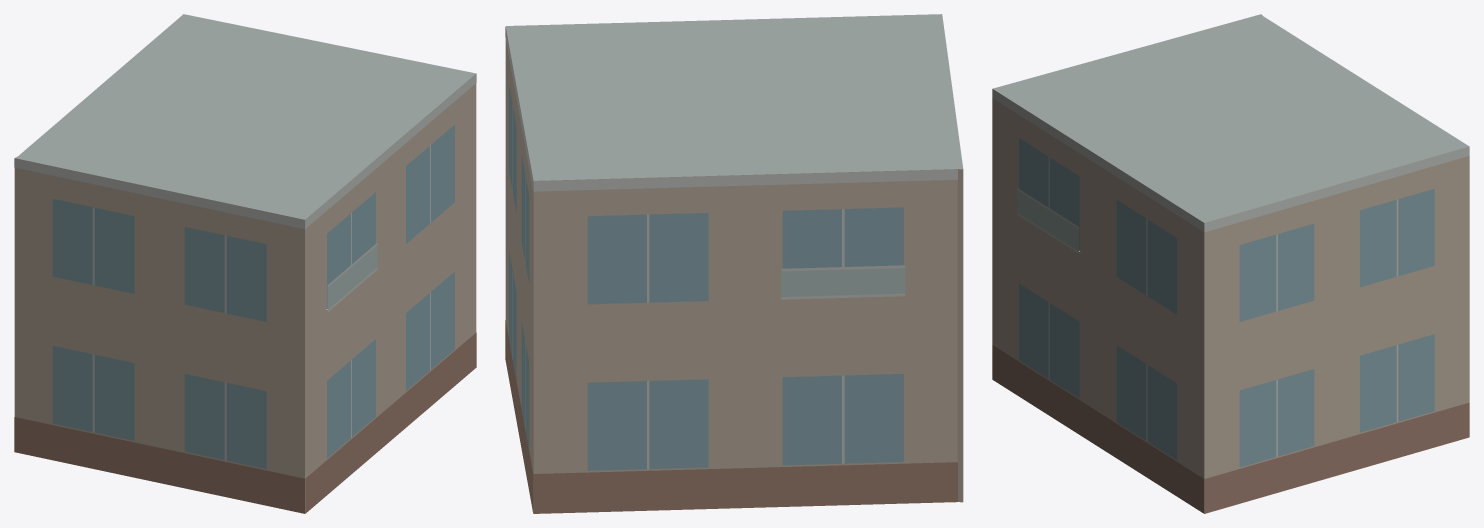
File: survey-upis-32610521.glb
The picture shows the model from 3 angles, left to right: view 1: azimuth 30°, elevation 25°; view 2: azimuth 150°, elevation 25°; view 3: azimuth 270°, elevation 25°; orthographic projection. The views are drawn at different scales.
Parts seen in each view (by area): view 1: survey-upis-32610521.tmp; view 2: survey-upis-32610521.tmp; view 3: survey-upis-32610521.tmp.
Part boxes in pixels (box(x1,y1,x2,y2)): survey-upis-32610521.tmp: box(14, 14, 476, 513); survey-upis-32610521.tmp: box(505, 14, 963, 513); survey-upis-32610521.tmp: box(992, 14, 1469, 513).
Size of the model in its own units: 11.72 by 7.6 by 11.31.
